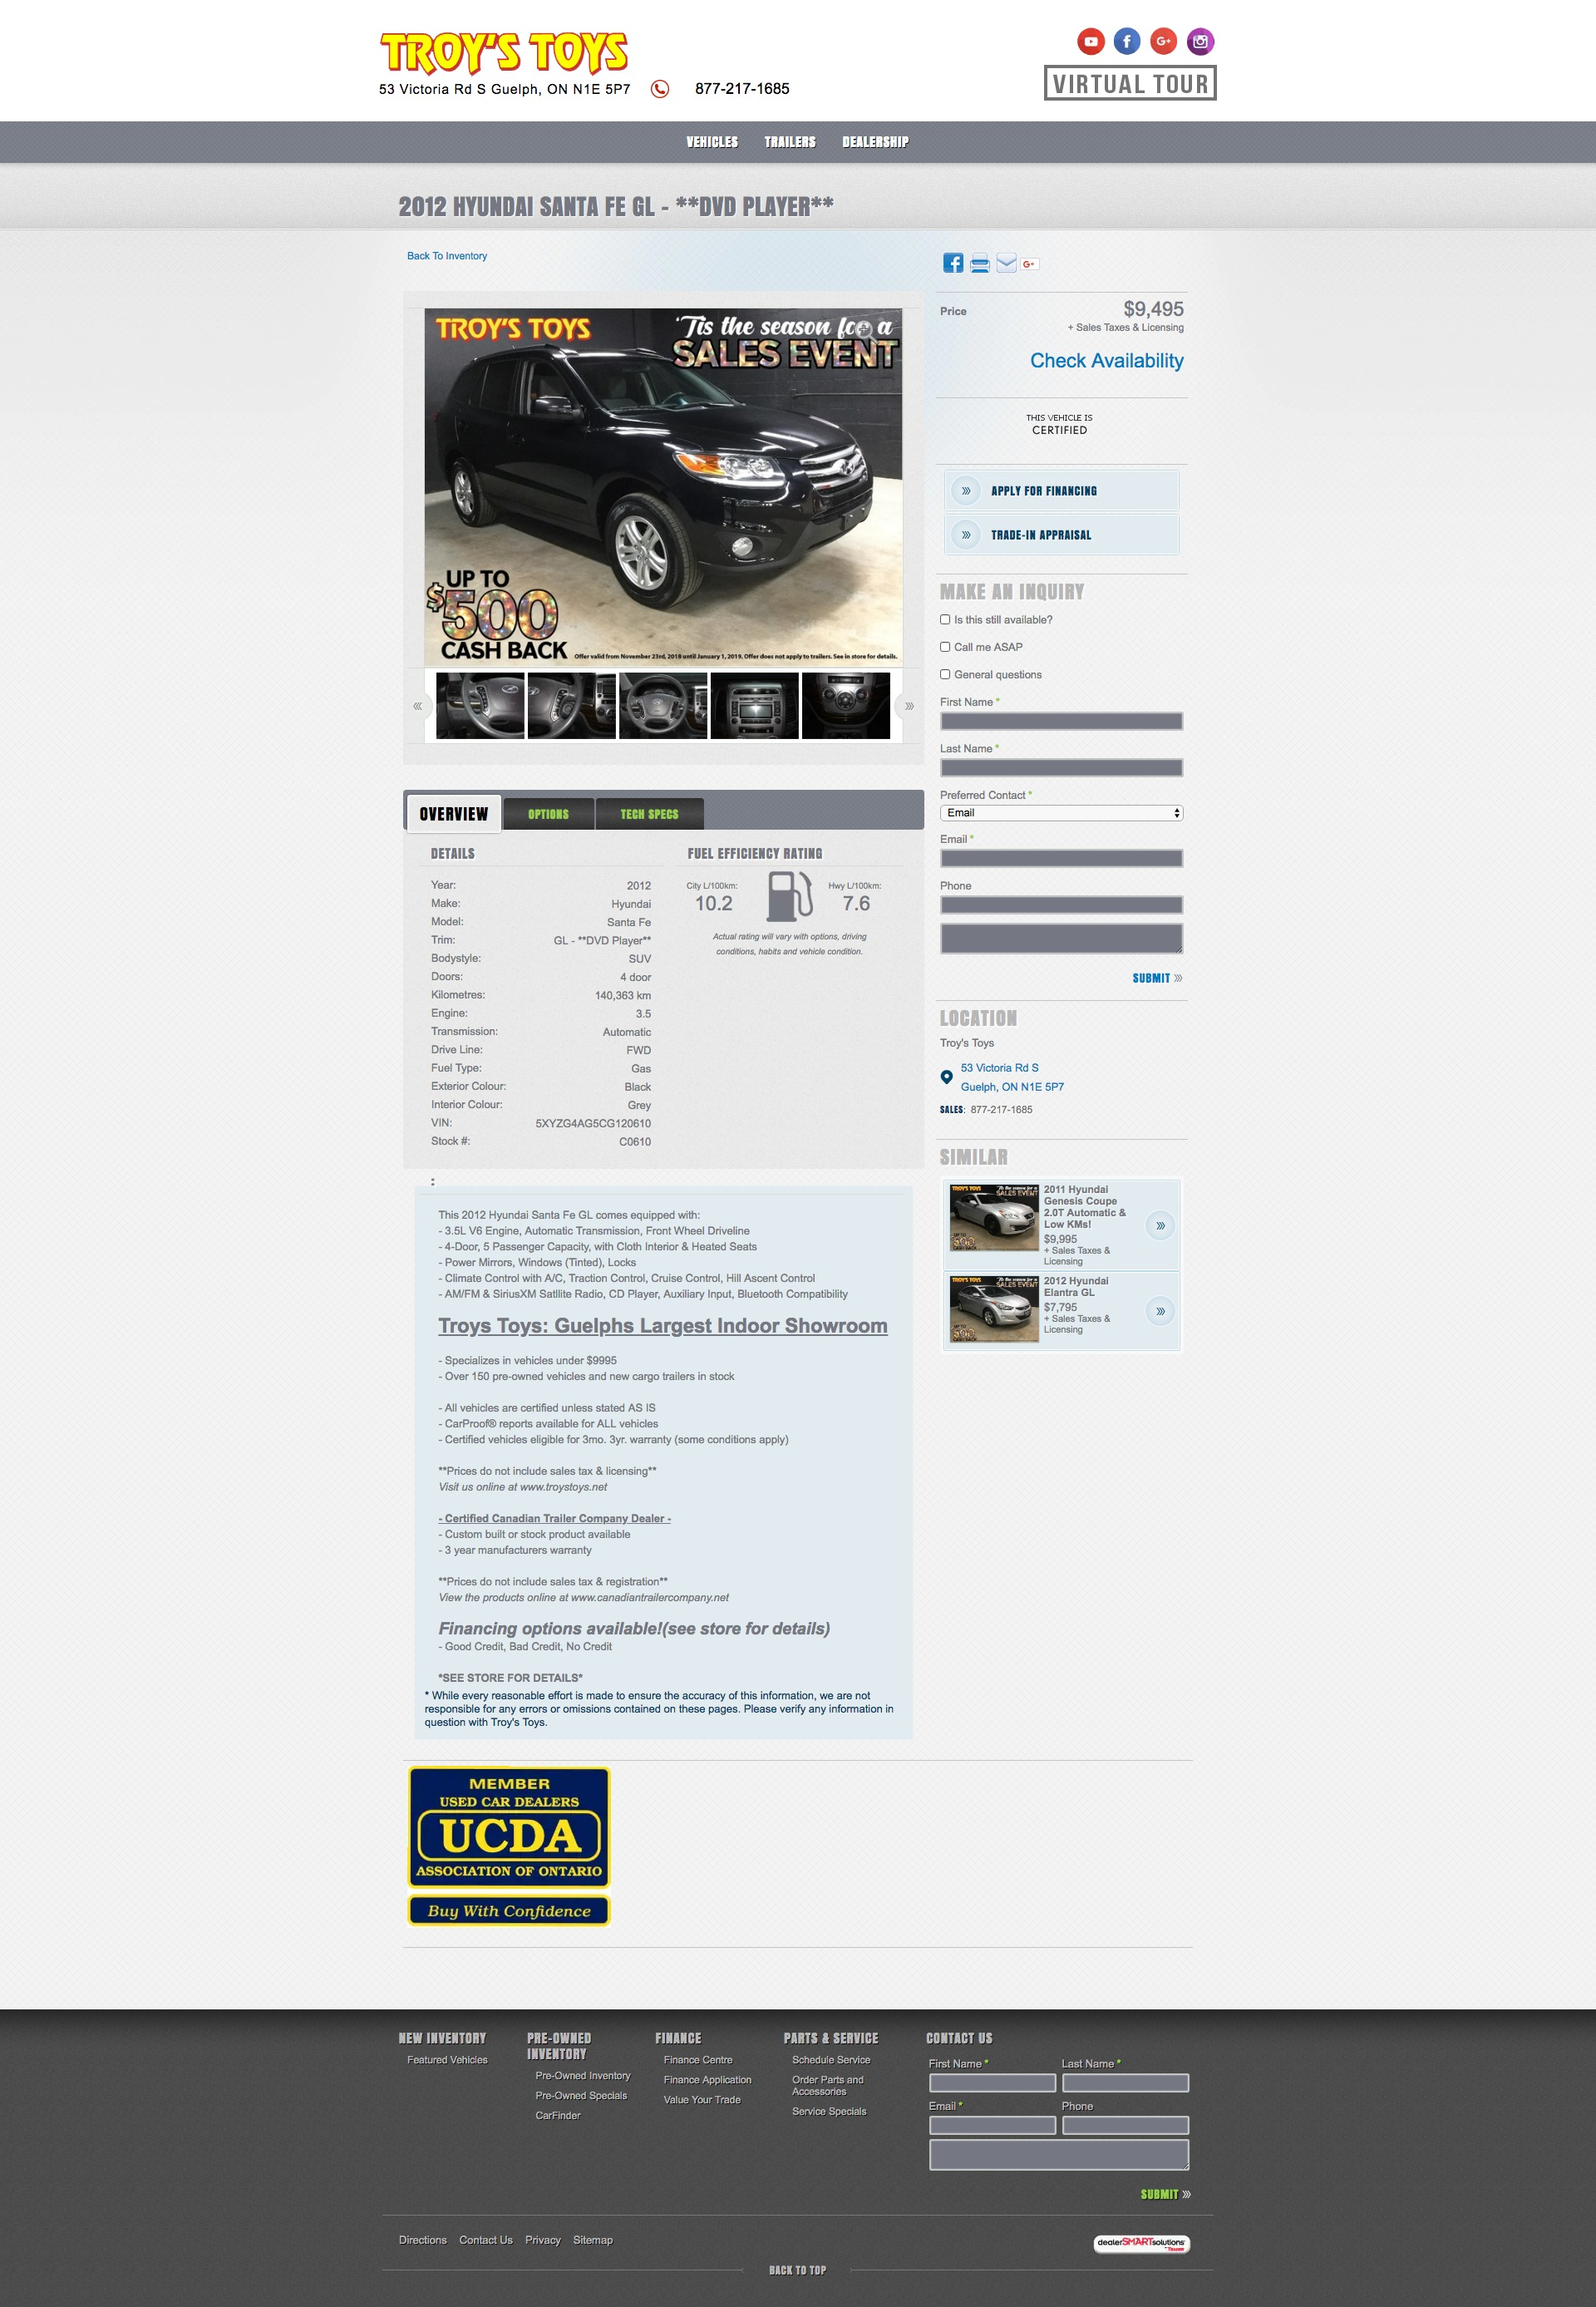car: (904, 699, 915, 713)
